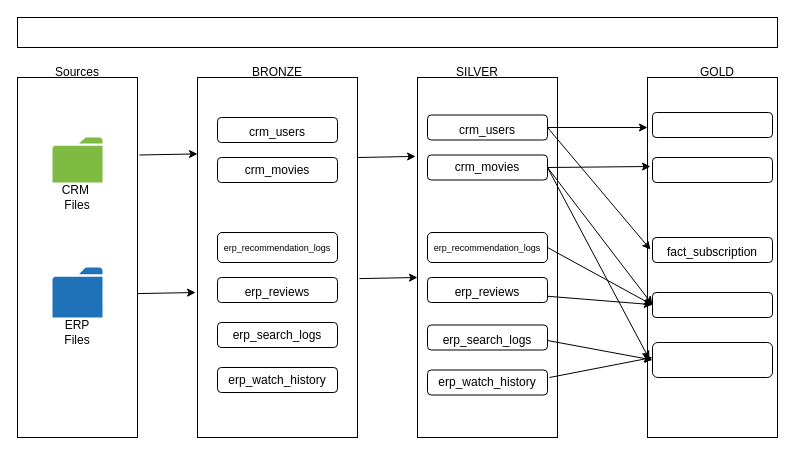
This 795x455 diagram has some shape labels left out. Each missing label, with the centre of its shape:
"DATA FLOW" goes at [397,32].
"dim_movies" goes at [712,169].
"dim_users" goes at [712,125].
"fact_movie_review" goes at [712,305].
"fact_search _watch_history" goes at [712,360].
